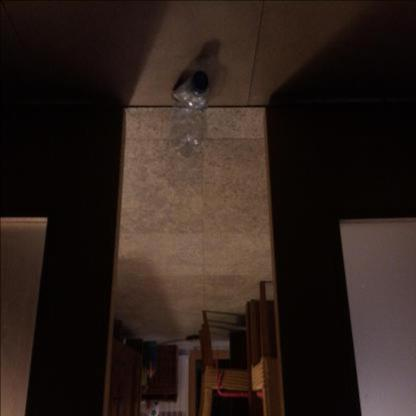Bottle: (192, 71, 208, 93)
Bottle cap: (170, 71, 210, 160)
